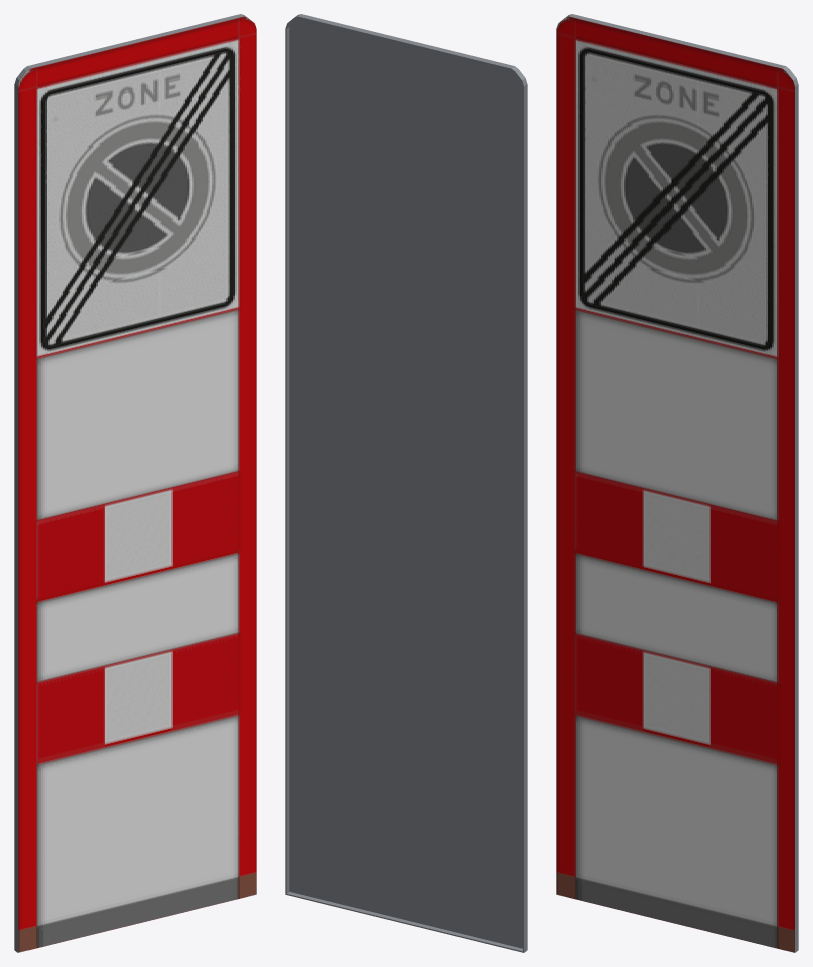
The picture shows the model from 3 angles, left to right: view 1: azimuth 30°, elevation 25°; view 2: azimuth 150°, elevation 25°; view 3: azimuth 330°, elevation 25°; orthographic projection.
Visible parts, largest first — view 1: cat_5fe7b0e1a350ae23; view 2: cat_5fe7b0e1a350ae23; view 3: cat_5fe7b0e1a350ae23.
Part boxes in pixels (x1,y1,x2,y2): cat_5fe7b0e1a350ae23: (14, 14, 256, 952); cat_5fe7b0e1a350ae23: (285, 14, 527, 952); cat_5fe7b0e1a350ae23: (556, 14, 798, 952).
Size of the model in its own units: 0.6 by 0.015 by 2.12.
Materials: 2 (1 with a texture image).
